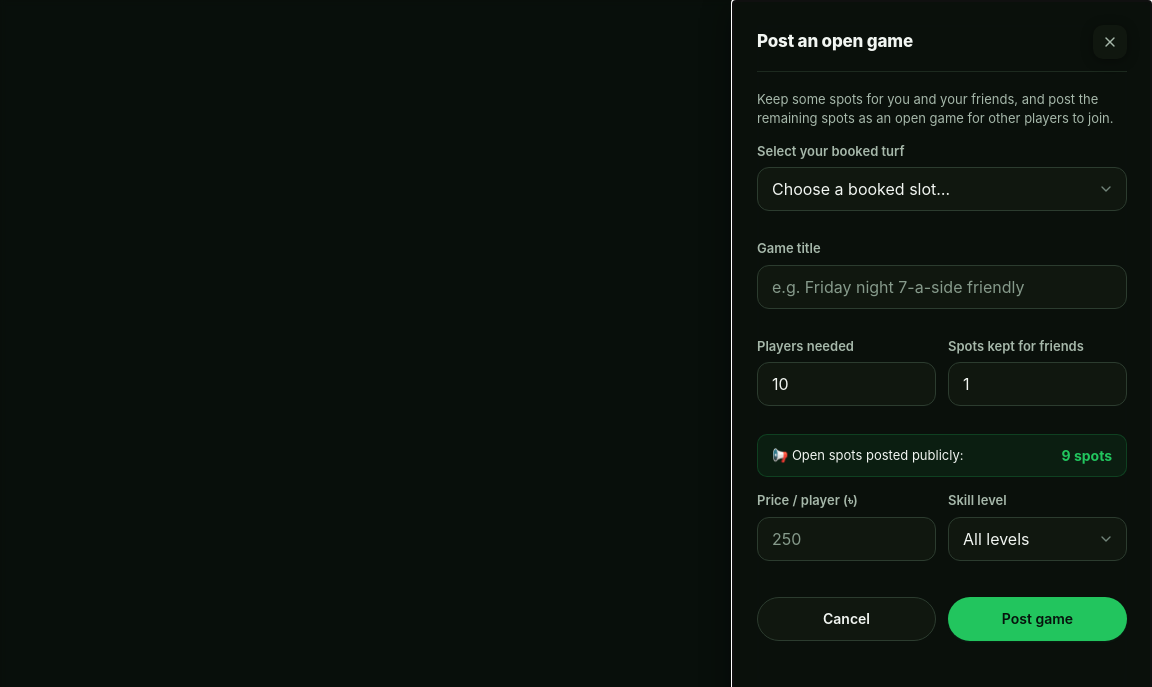
CreateGameDrawer › will not post a game if required fields are missing
Check: the dropdown labelled "Select your booked turf" is shown, box [757,167,1127,211]
Click the button "Post game" at (1038, 619), box [948,597,1127,641]
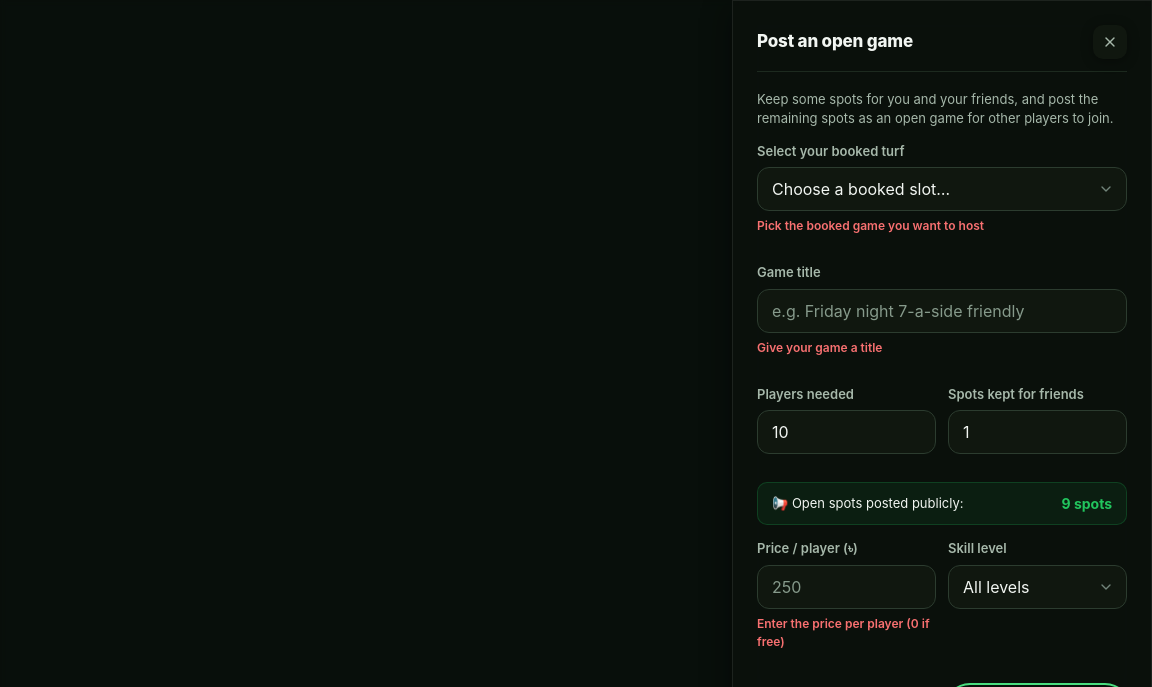
Check: the text "Pick the booked game you want to host" is shown, box [757,218,984,233]
